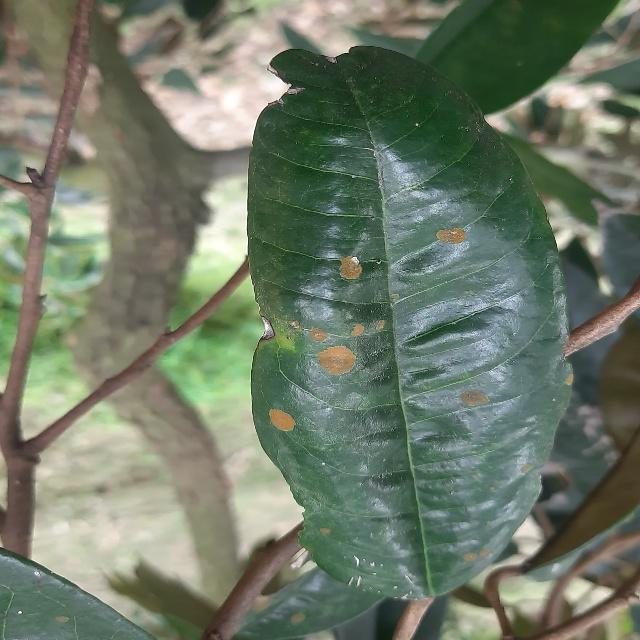Algal Leaf Spot: (255, 37, 577, 609)
